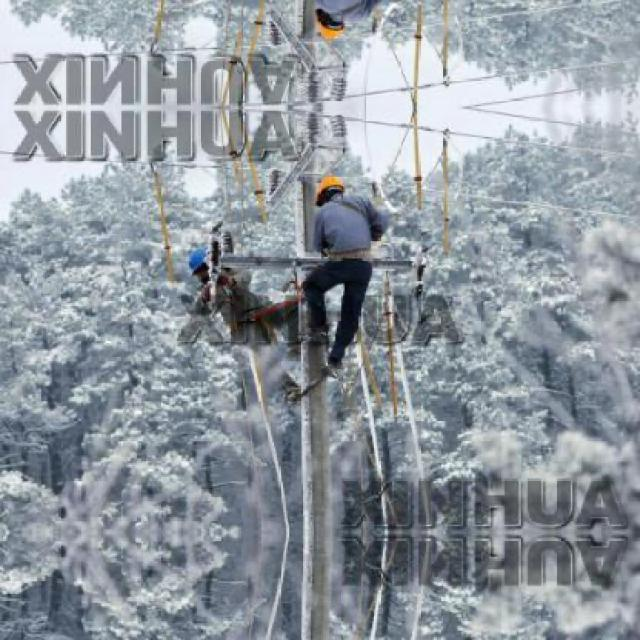helmet: (180, 244, 225, 284), (309, 175, 348, 208), (309, 6, 348, 39)
